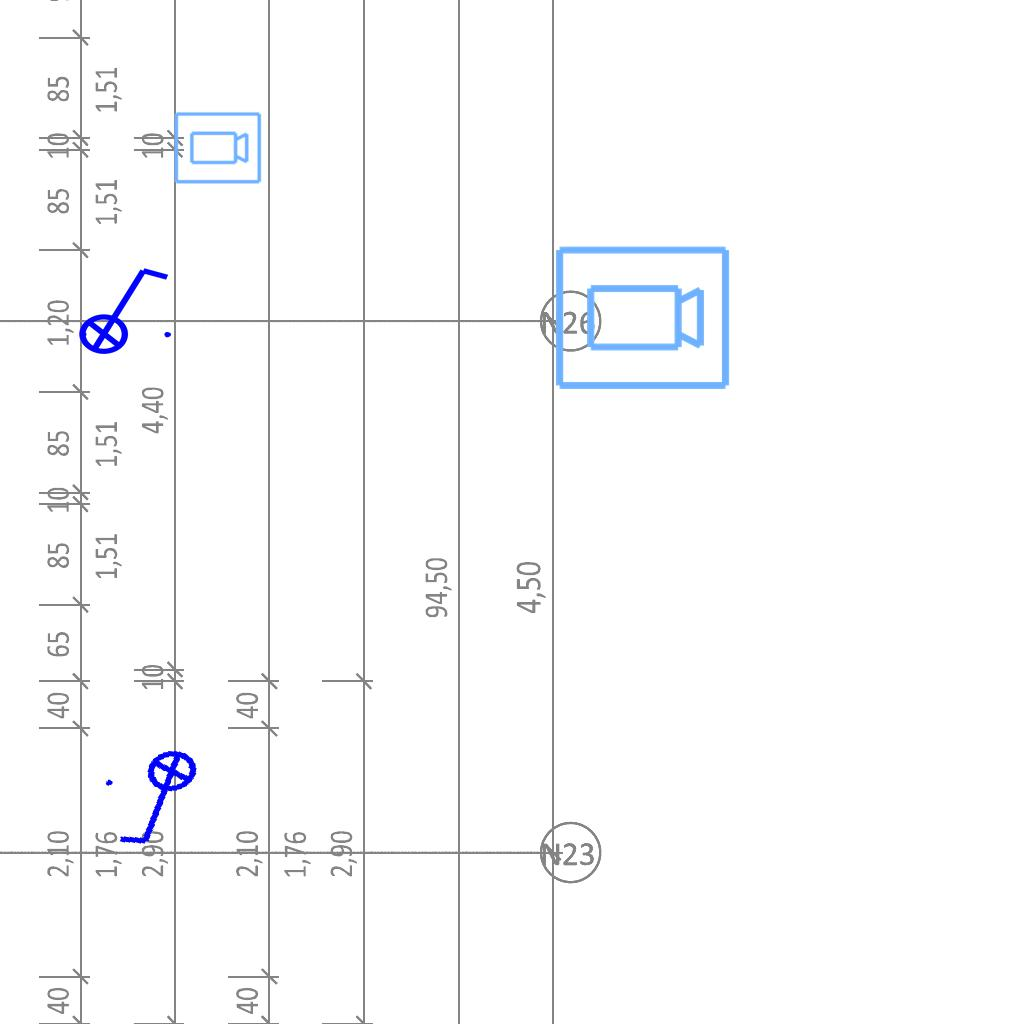Ausschalter_beleuchtet: (95, 742, 225, 858), (65, 260, 177, 356)
KFO_Kamera_mit_Festobjektiv: (551, 242, 733, 396), (172, 110, 263, 187)
